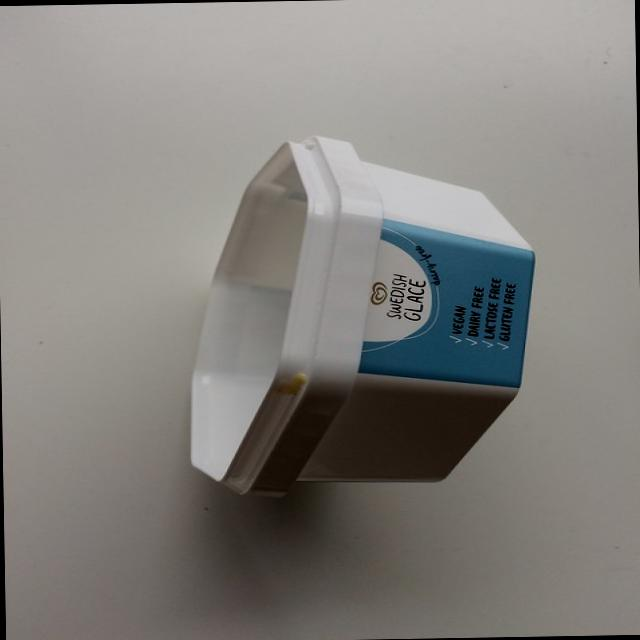Trash: (177, 116, 550, 500)
